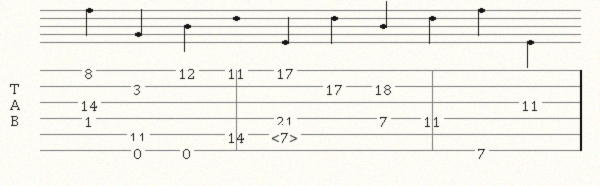0: (133, 143, 146, 157), (182, 143, 195, 157)
1: (84, 111, 97, 125)
11: (129, 127, 151, 141), (227, 63, 249, 77), (423, 111, 445, 125), (521, 95, 543, 109)
12: (178, 63, 200, 77)
14: (80, 95, 102, 109), (227, 127, 249, 141)
17: (276, 63, 298, 77), (325, 79, 347, 93)
18: (374, 79, 396, 93)
21: (276, 111, 298, 125)
3: (133, 79, 146, 93)
7: (379, 111, 392, 125), (477, 143, 490, 157)
8: (84, 63, 97, 77)
harmonic: (271, 127, 302, 141)
